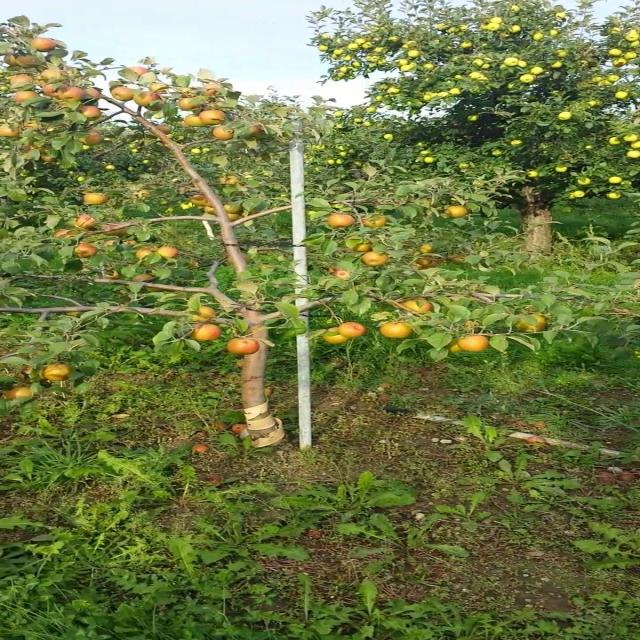apple: (227, 340, 263, 356), (191, 324, 220, 342), (191, 304, 220, 322), (42, 364, 71, 381), (461, 336, 491, 352), (518, 316, 548, 332), (134, 92, 162, 108), (383, 324, 412, 339), (340, 324, 370, 338), (404, 300, 434, 314), (362, 252, 389, 267), (56, 88, 85, 101), (6, 388, 36, 400), (77, 132, 103, 145), (77, 244, 100, 258), (362, 216, 388, 228), (113, 88, 135, 102), (205, 112, 228, 125), (13, 92, 37, 104), (333, 216, 356, 228), (212, 128, 235, 140), (35, 40, 57, 52), (326, 332, 348, 344), (177, 100, 199, 112), (184, 116, 206, 128), (106, 224, 128, 236), (77, 216, 98, 228), (447, 208, 469, 219), (13, 56, 36, 66), (205, 84, 222, 97), (42, 84, 60, 96), (148, 84, 169, 94), (6, 56, 27, 66), (191, 196, 210, 207), (13, 76, 36, 85), (84, 88, 101, 100), (333, 268, 350, 280), (220, 176, 242, 185), (42, 72, 64, 81), (84, 196, 107, 204), (355, 244, 375, 253), (419, 260, 439, 269), (84, 108, 100, 119), (419, 244, 436, 254), (447, 256, 468, 264), (163, 248, 178, 259), (42, 152, 57, 163), (6, 128, 21, 138), (134, 276, 155, 283), (333, 272, 350, 280), (227, 204, 244, 212), (426, 260, 443, 268), (134, 68, 149, 77), (106, 272, 121, 281), (28, 144, 44, 152), (141, 248, 156, 256), (447, 344, 462, 352), (20, 124, 43, 129), (205, 208, 219, 216), (70, 312, 85, 319), (412, 264, 427, 271), (56, 232, 73, 238), (419, 260, 428, 270), (227, 216, 242, 222), (106, 240, 117, 248), (255, 124, 263, 134), (141, 192, 149, 199)
